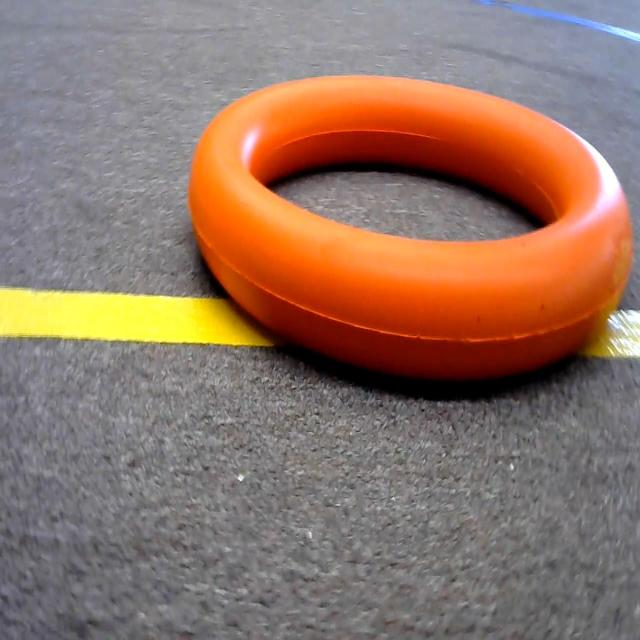note: (176, 54, 636, 390)
